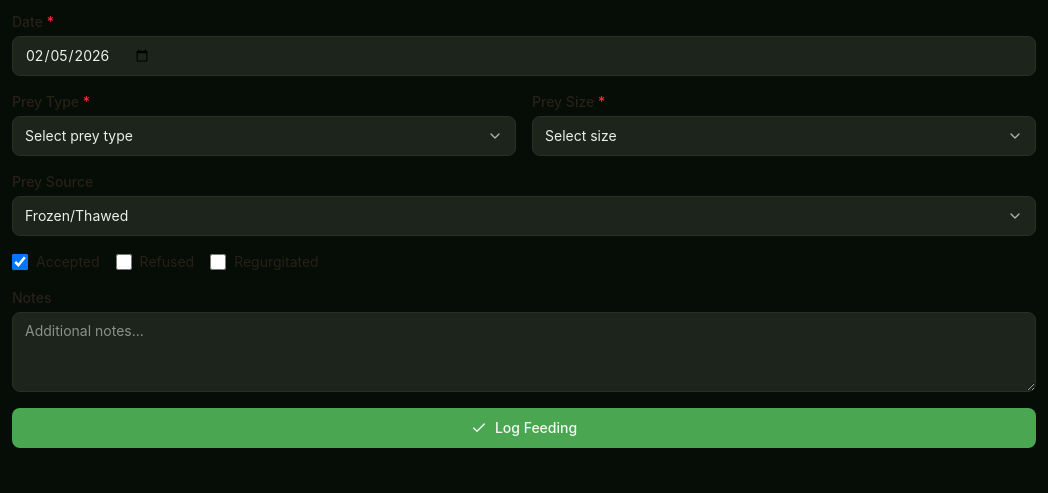
Test case: FeedingForm › validation › should clear error when field is filled
This screenshot has width=1048, height=493.
Submit to trigger validation errors
Click the button "Log Feeding".
click(524, 428)  # box [12, 408, 1036, 448]
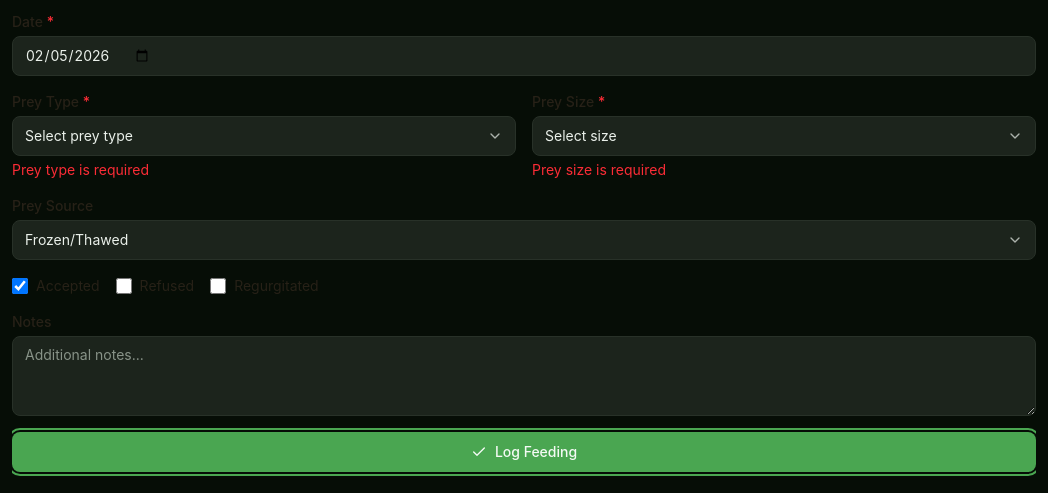
Expected: the text "Prey type is required" is shown, [12, 161, 149, 178]
Select prey type - should clear error
Click the dropdown labelled "Select prey type".
click(79, 136)  # box [12, 116, 516, 156]
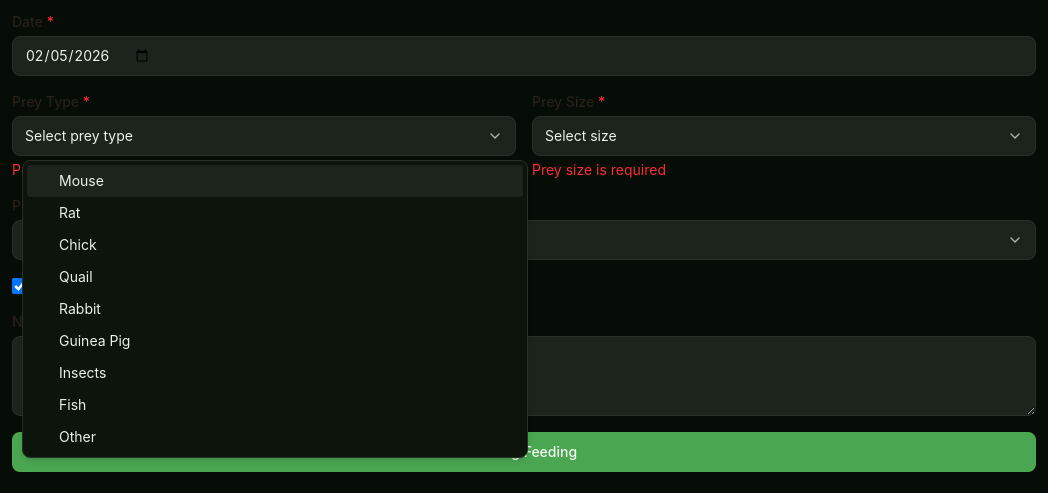
Expected: the option "Mouse" is shown
Click the option "Mouse".
click(81, 180)  # box [27, 165, 523, 197]
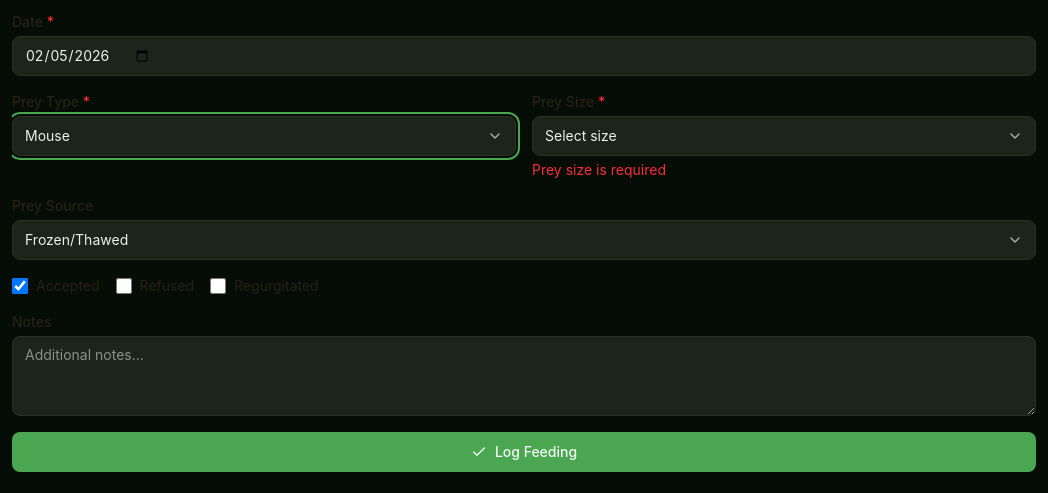
Expected: the text "Prey type is required" is gone
